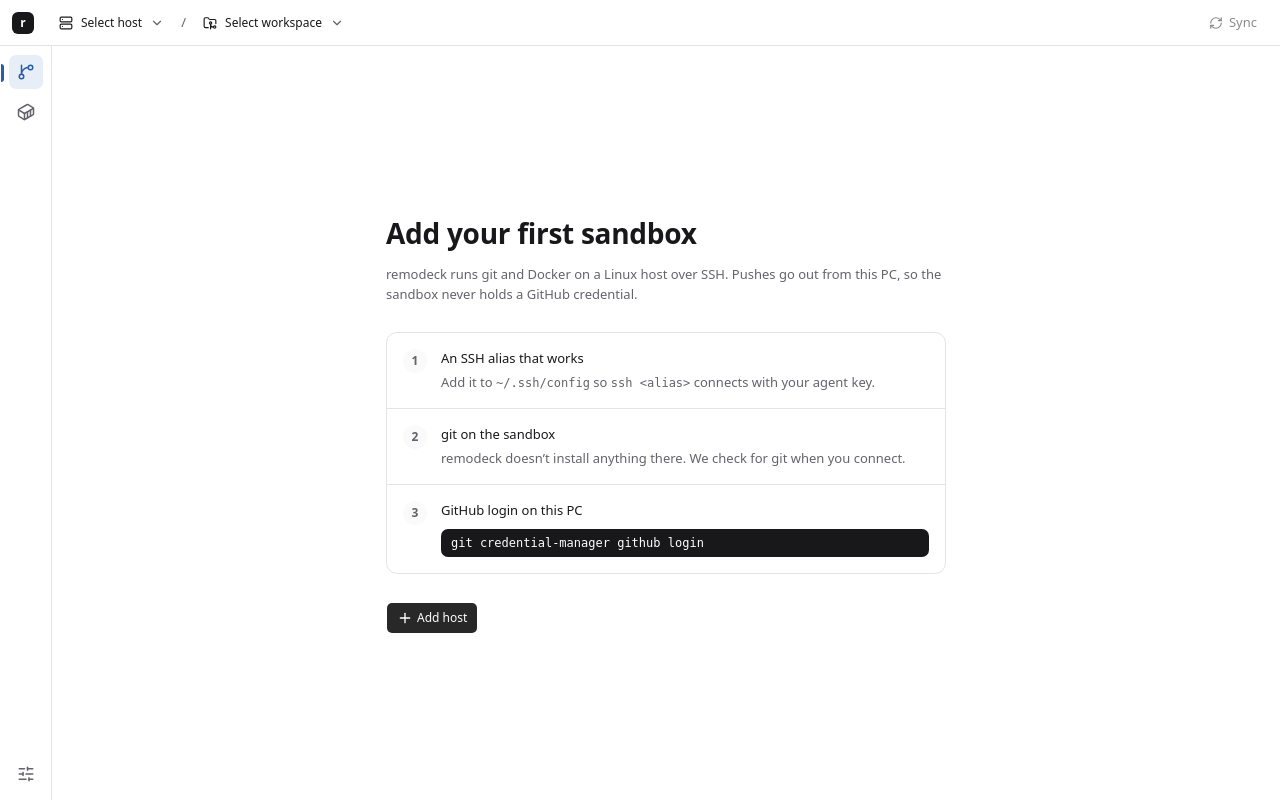
Test: App empty states › no hosts: invites adding the first sandbox, top bar stays
Expected: the heading "Add your first sandbox" is shown, left=386, top=214, right=697, bottom=252
Expected: the header is shown, left=0, top=0, right=1279, bottom=46
Click the button "Add host": x=432, y=618 left=386, top=602, right=478, bottom=634
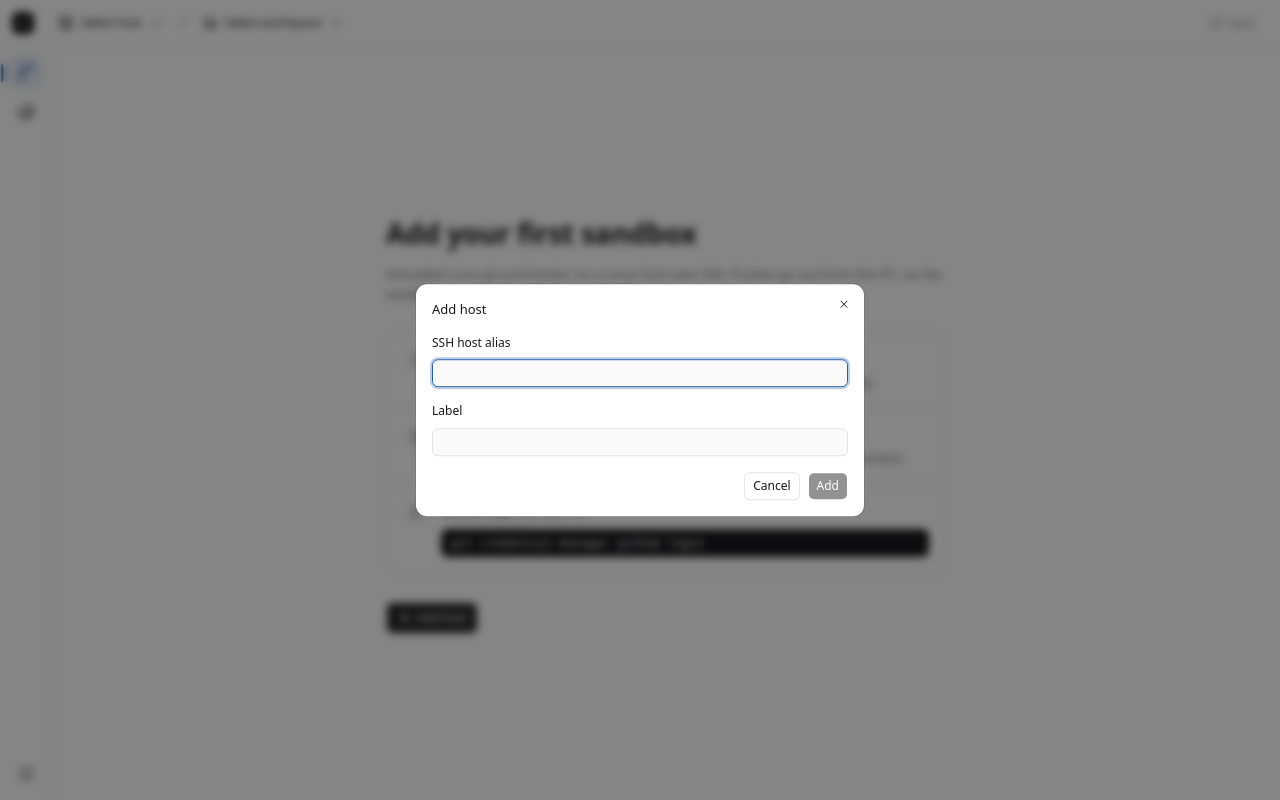
Expected: the button "Add" is shown, left=808, top=472, right=848, bottom=500
